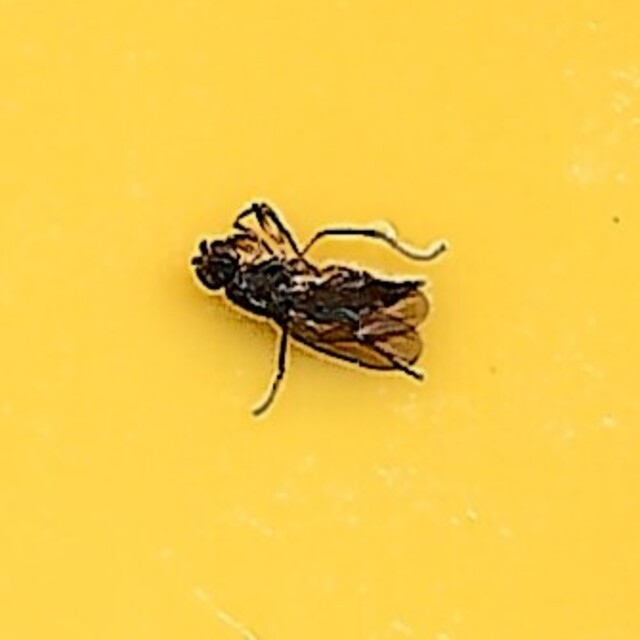Brachycera: (191, 204, 449, 436)
